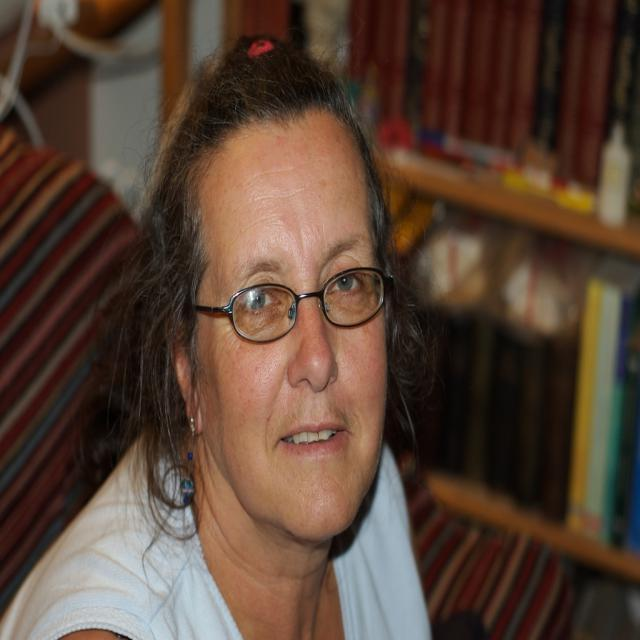closed-mouth: (280, 420, 348, 458)
